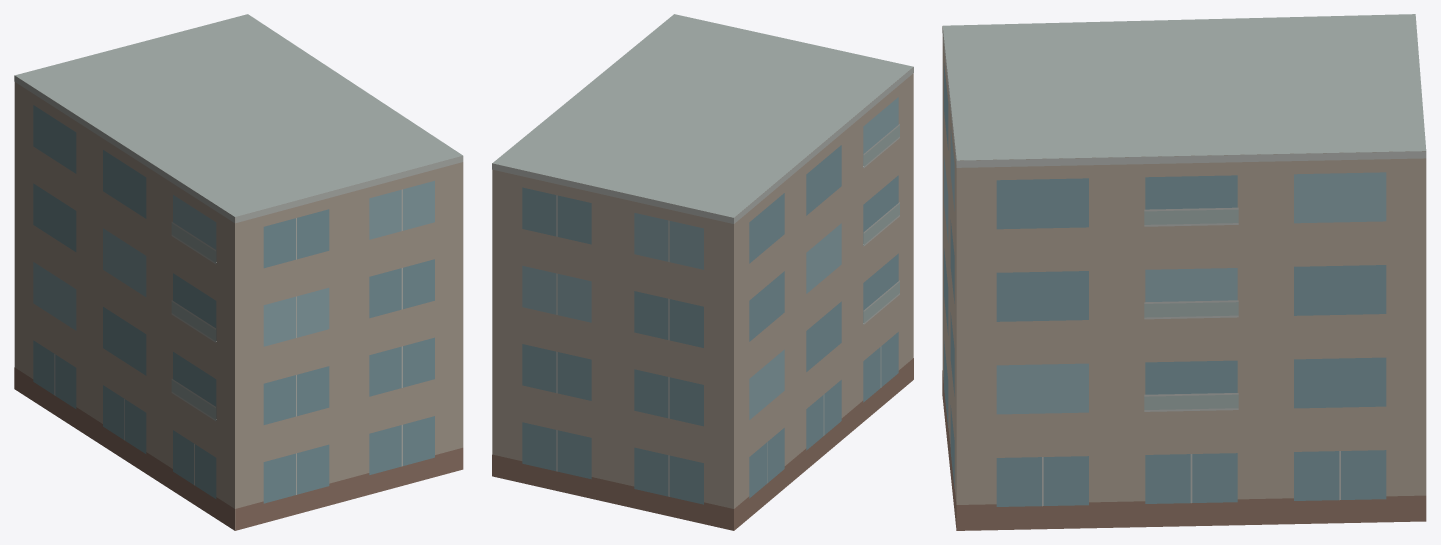
The model's file is survey-upis-32671327.glb.
3 views of the same model, side by side, from view 1: azimuth 30°, elevation 25°; view 2: azimuth 150°, elevation 25°; view 3: azimuth 270°, elevation 25° (orthographic). The views are drawn at different scales.
Visible parts, largest first — view 1: survey-upis-32671327.tmp; view 2: survey-upis-32671327.tmp; view 3: survey-upis-32671327.tmp.
Part boxes in pixels (<box>): survey-upis-32671327.tmp: <box>14,14,463,530</box>; survey-upis-32671327.tmp: <box>492,14,913,530</box>; survey-upis-32671327.tmp: <box>942,14,1426,530</box>.
Size of the model in its own units: 10.36 by 12.2 by 14.45.
